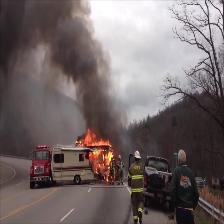smoke: (10, 7, 71, 40), (66, 46, 102, 83), (85, 93, 110, 134), (80, 136, 112, 165)
